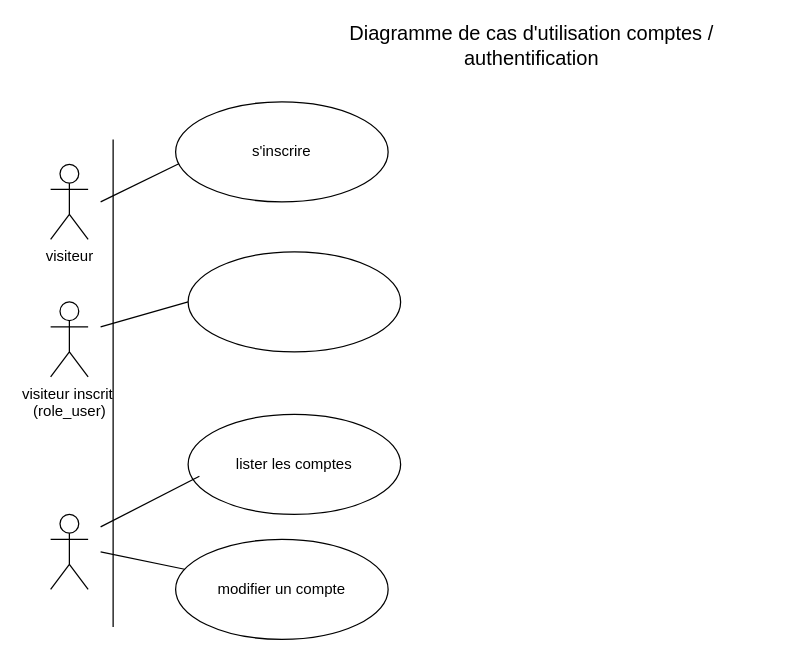
The diagram is 796 pixels wide and 661 high, and some of its shapes have lost their labels. Here are the shapes that lost their labels. From the top down, the centre of each, then its label:
(294,301): s'authentifier
(68,551): visiteur inscrit (role_admin)
